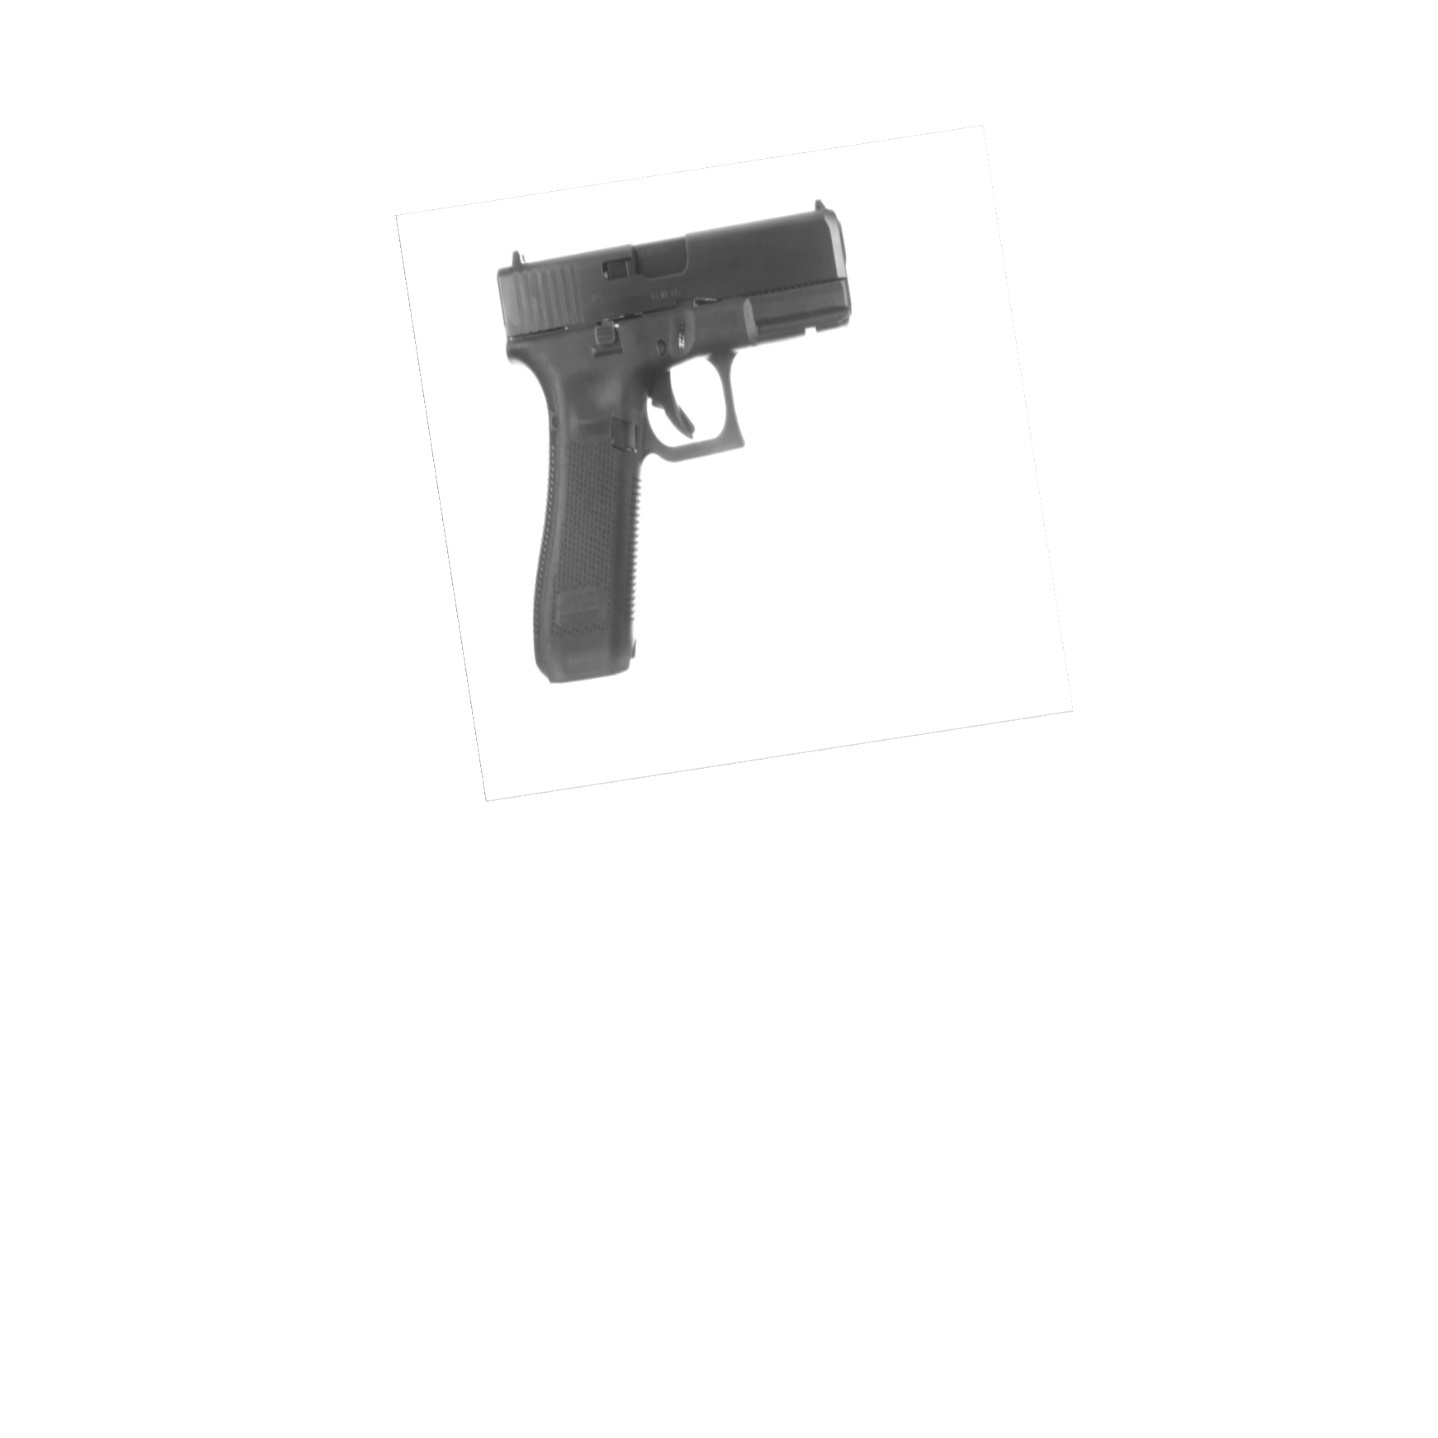gun: (474, 195, 876, 682)
